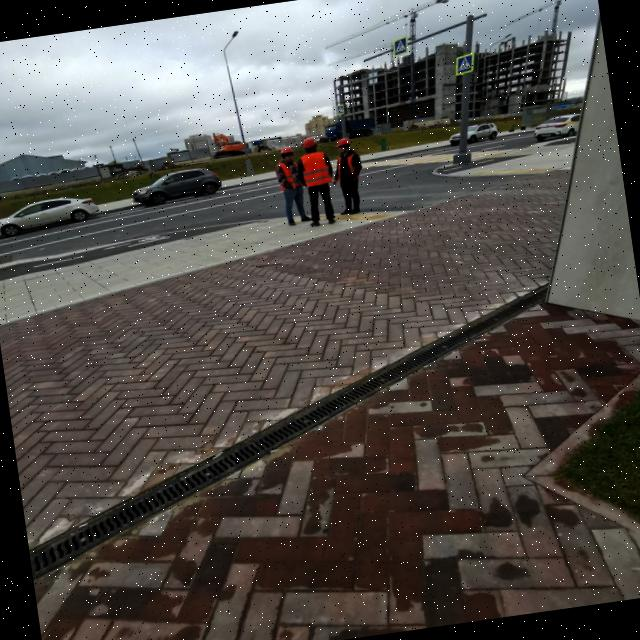Helmet: (301, 138, 321, 155), (336, 139, 354, 156), (280, 147, 296, 165)
